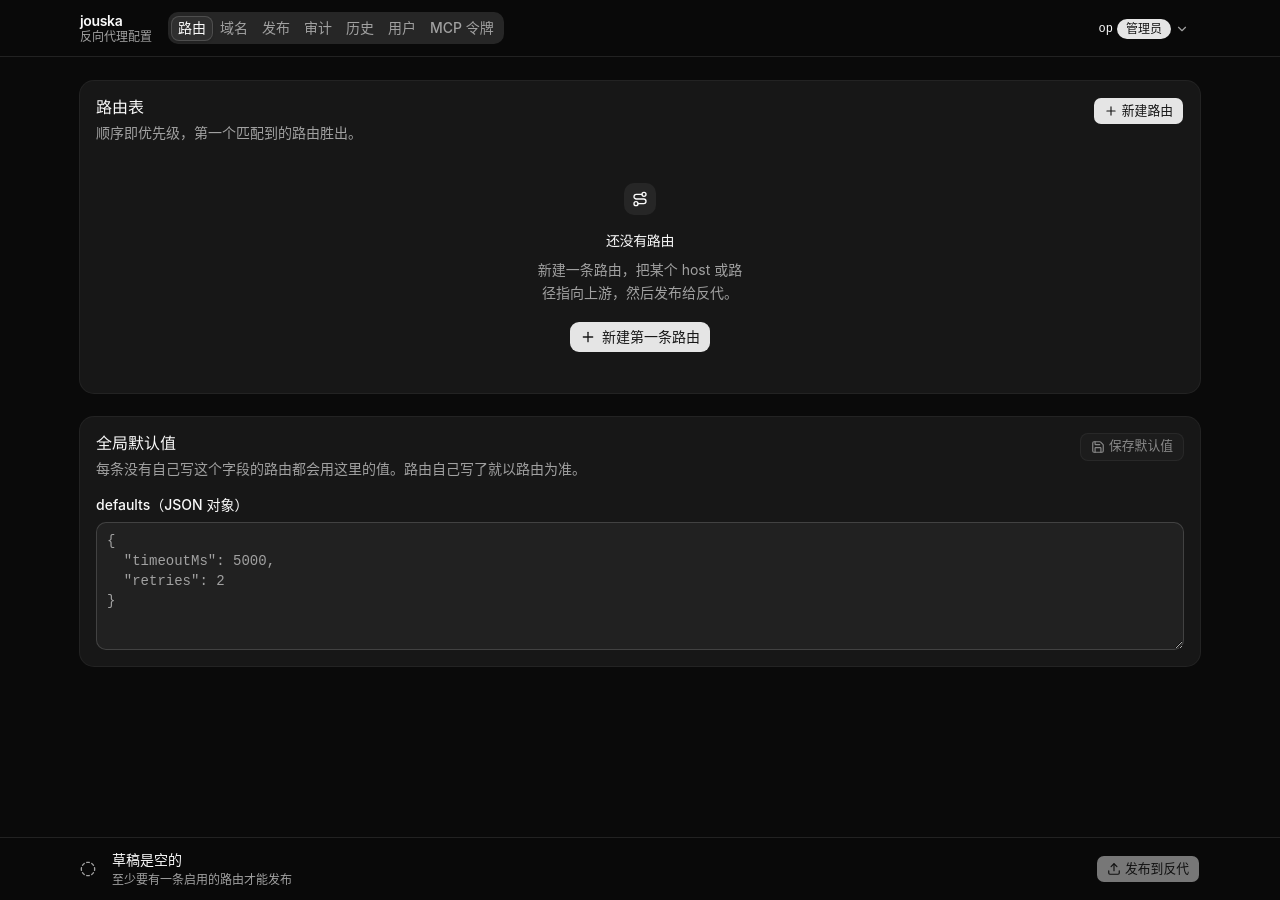
Test: App › 某一页崩了也不吃掉头部——退出登录永远点得到
Click the tab "审计" at (318, 28), box x1=297 y1=16 x2=339 y2=40
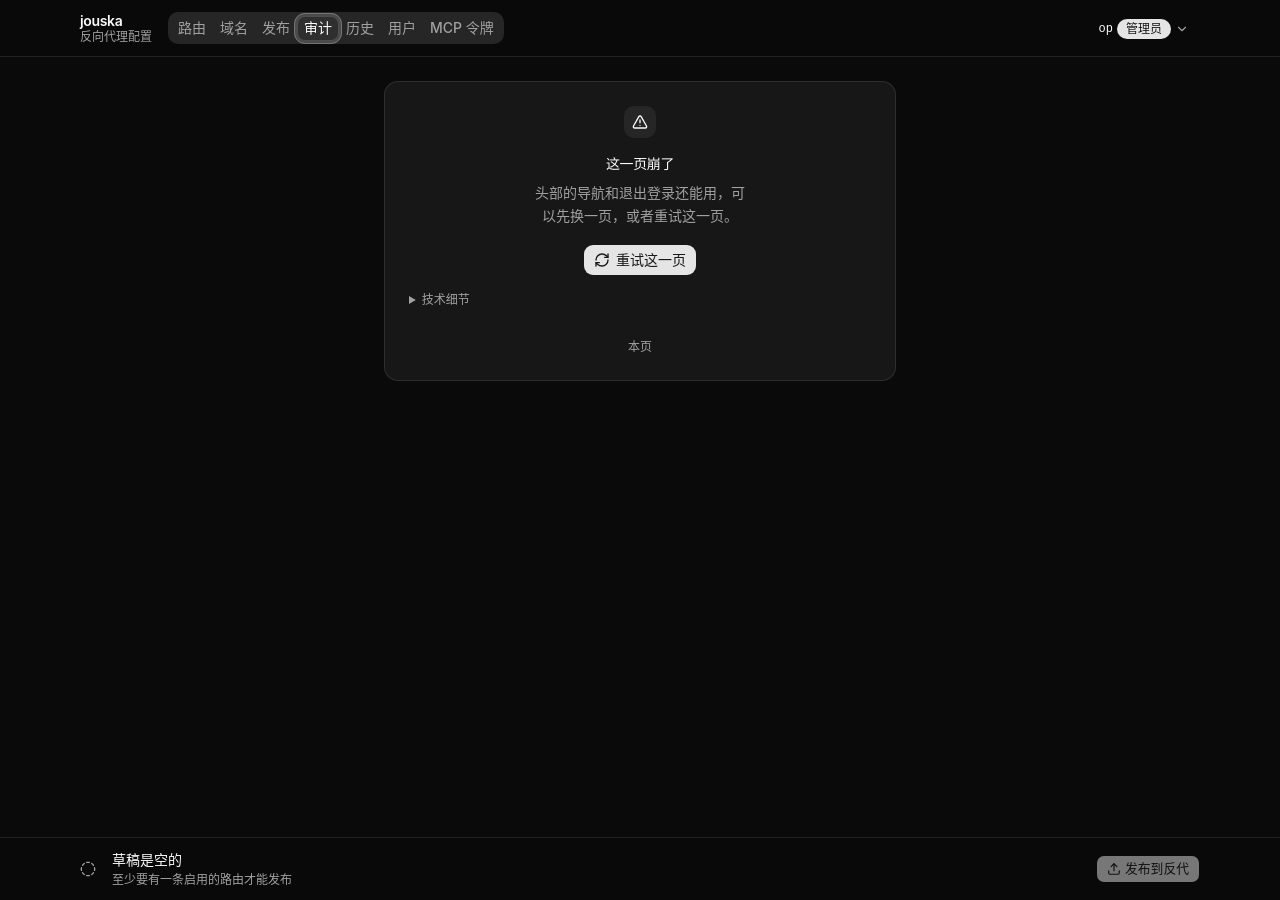
Result: the text "这一页崩了" is shown at x1=606 y1=154 x2=674 y2=174
Click the button with aria-label "账号菜单" at (1144, 28), box x1=1088 y1=14 x2=1200 y2=42
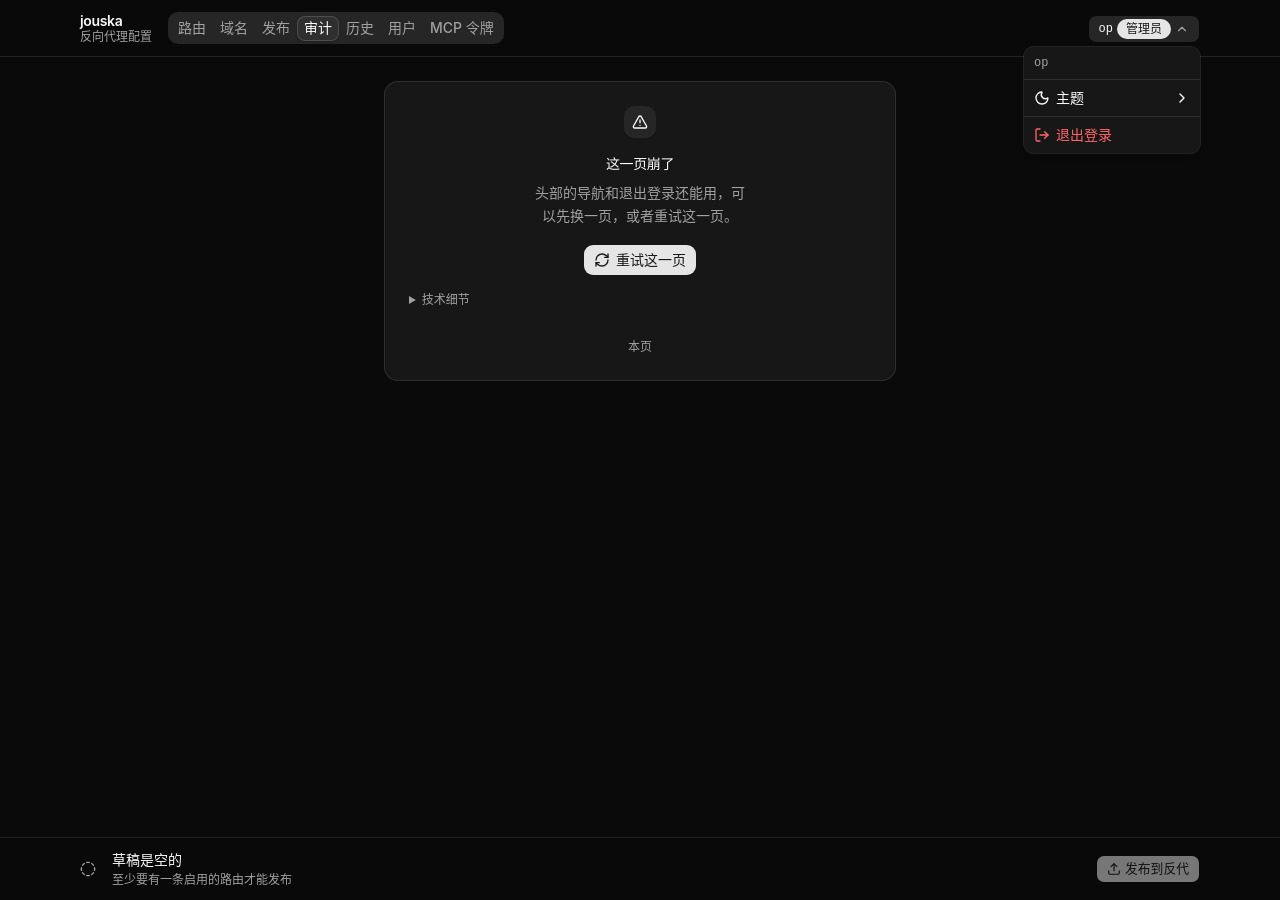
Result: the menu item "退出登录" is shown at x1=1034 y1=126 x2=1112 y2=143
